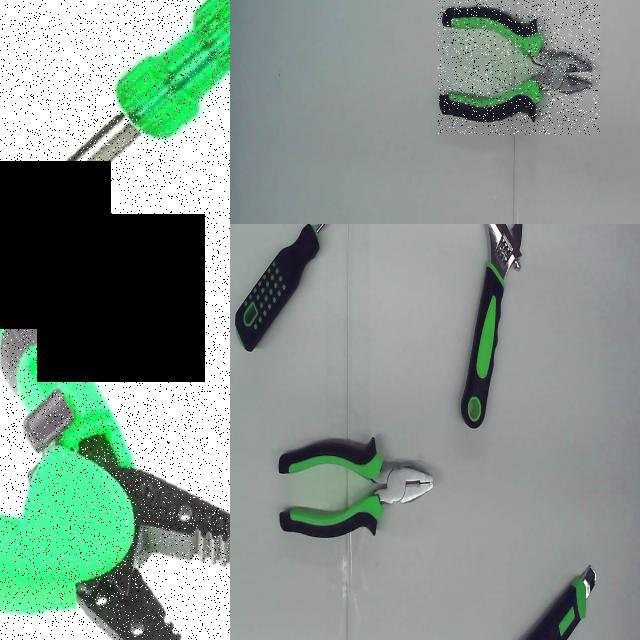estilete: (521, 566, 595, 639)
